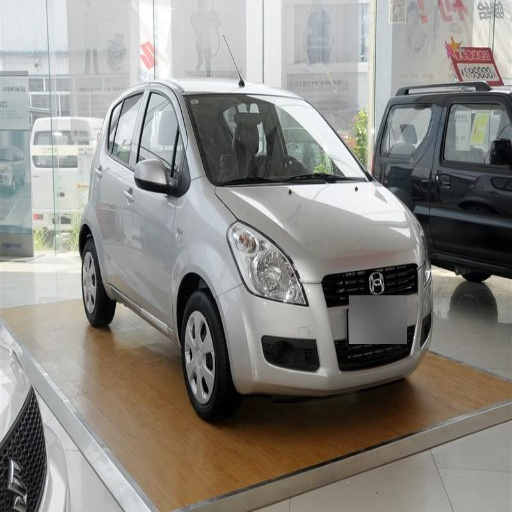front_bumper: (220, 261, 430, 395)
front_right_door: (126, 85, 187, 318)
front_right_light: (228, 222, 307, 305)
